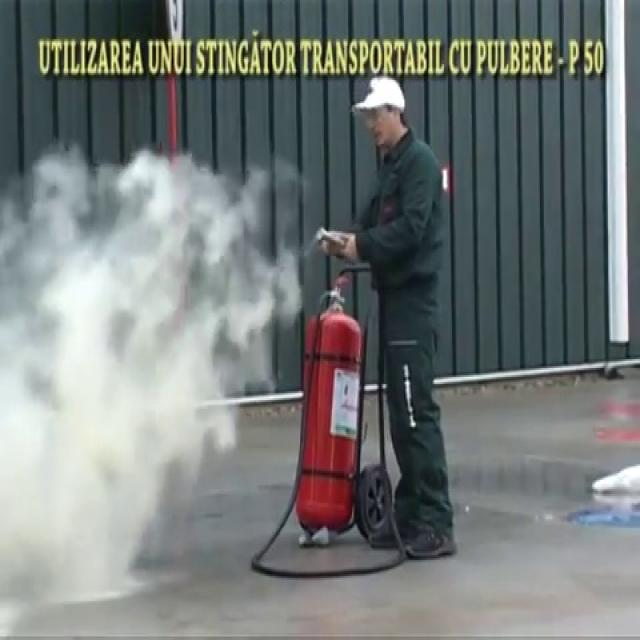Smoke: (0, 152, 307, 622)
